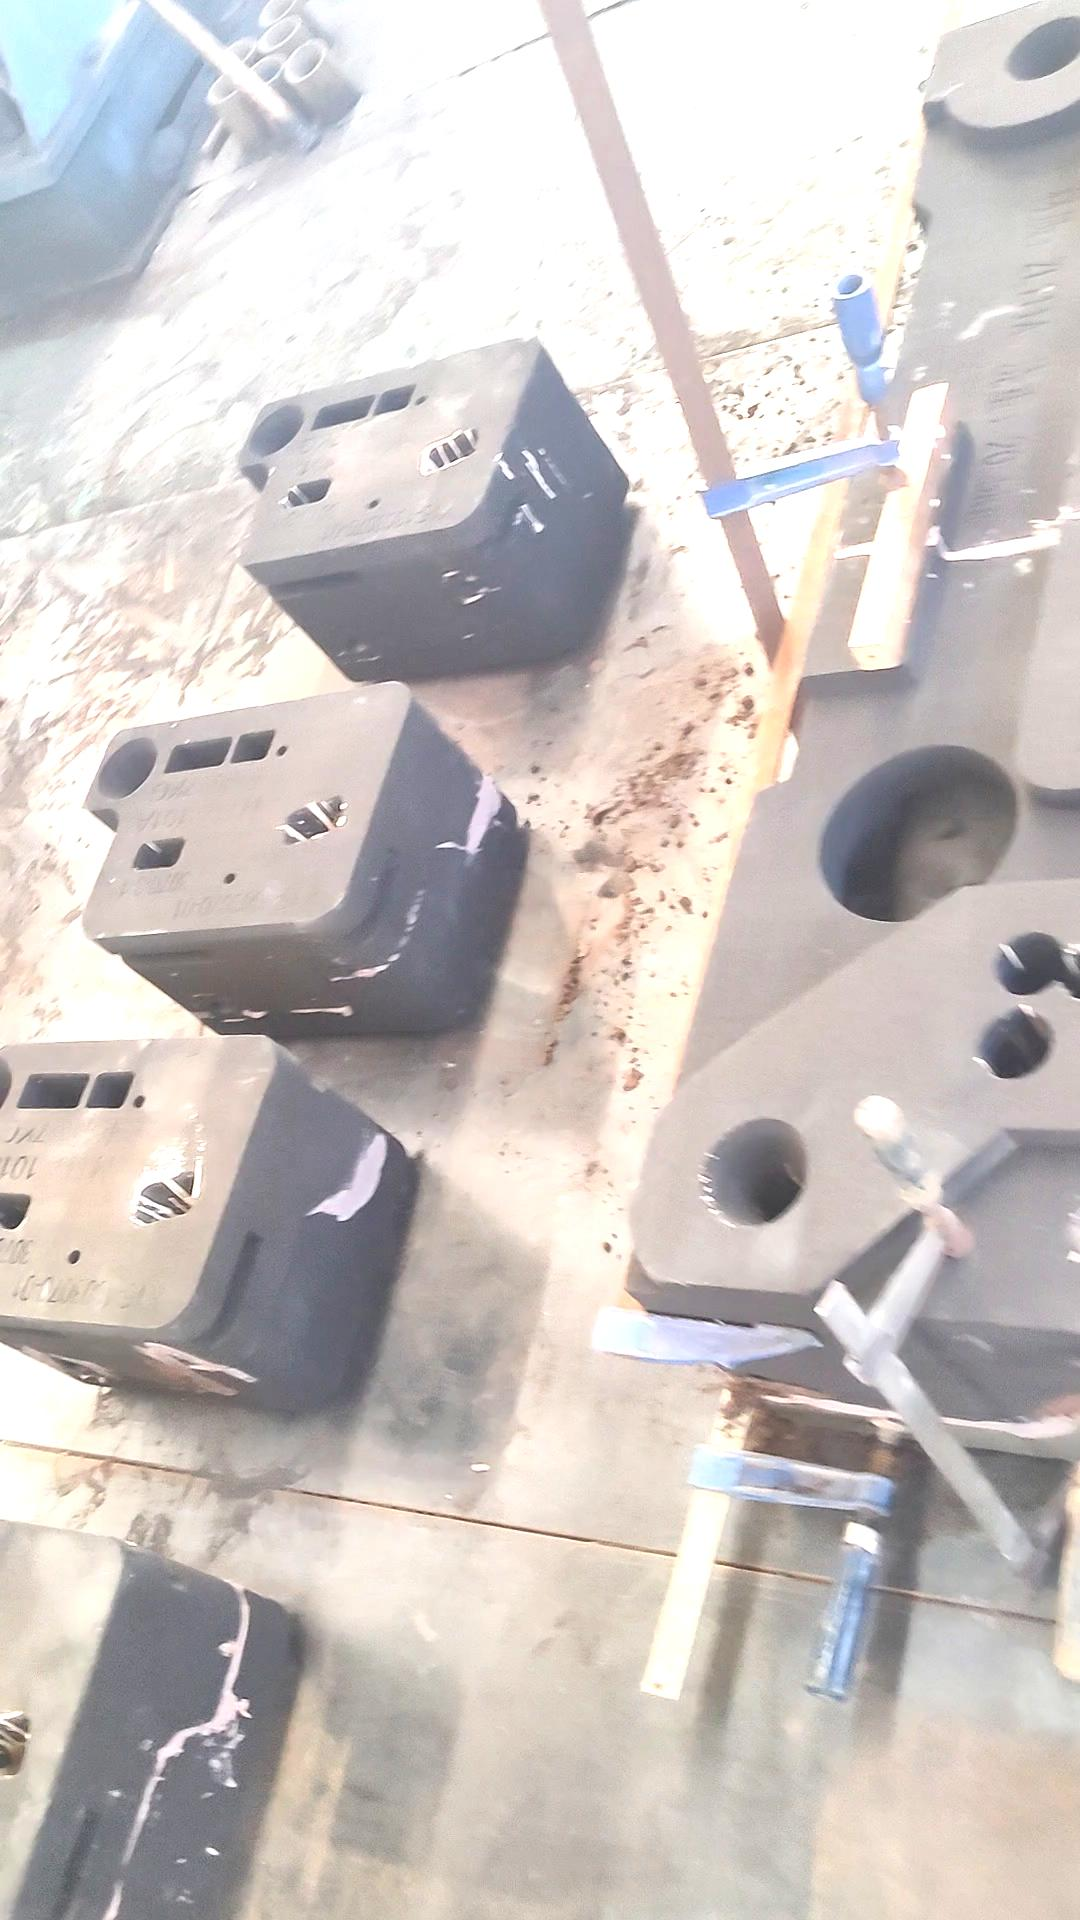pouring hole: (702, 1117, 808, 1229), (1005, 15, 1080, 80), (96, 738, 157, 798), (248, 405, 305, 455), (1, 1056, 12, 1110)
